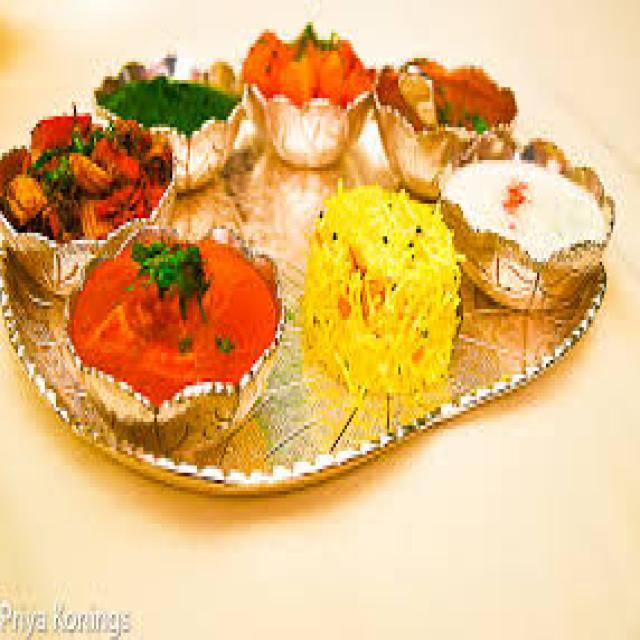rice: (277, 163, 465, 436), (449, 148, 609, 301)
veg-fry: (67, 207, 276, 444), (3, 92, 173, 292)
